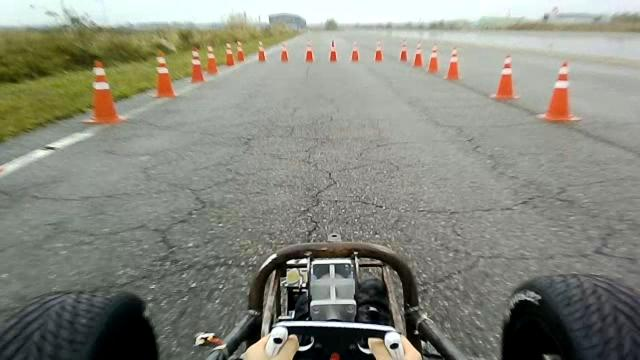red cone: (81, 59, 128, 124), (536, 60, 582, 122), (490, 54, 520, 101), (150, 50, 177, 98), (188, 46, 206, 84), (444, 47, 461, 81), (206, 45, 218, 75), (427, 44, 439, 74), (412, 40, 423, 68), (236, 39, 248, 63), (304, 38, 315, 62), (224, 42, 235, 66), (328, 39, 338, 62), (350, 40, 360, 62), (399, 39, 408, 63), (374, 39, 383, 62), (257, 40, 266, 62), (280, 41, 288, 62)
